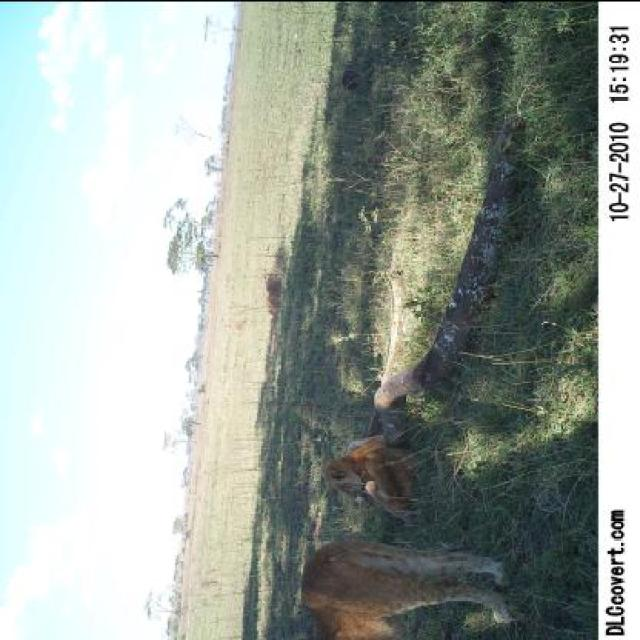Lion: (280, 536, 532, 638), (322, 418, 460, 520)
